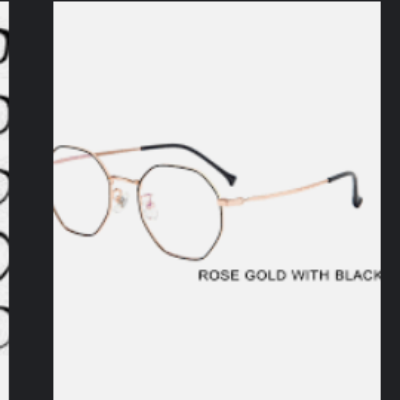glasses: (53, 137, 381, 263)
